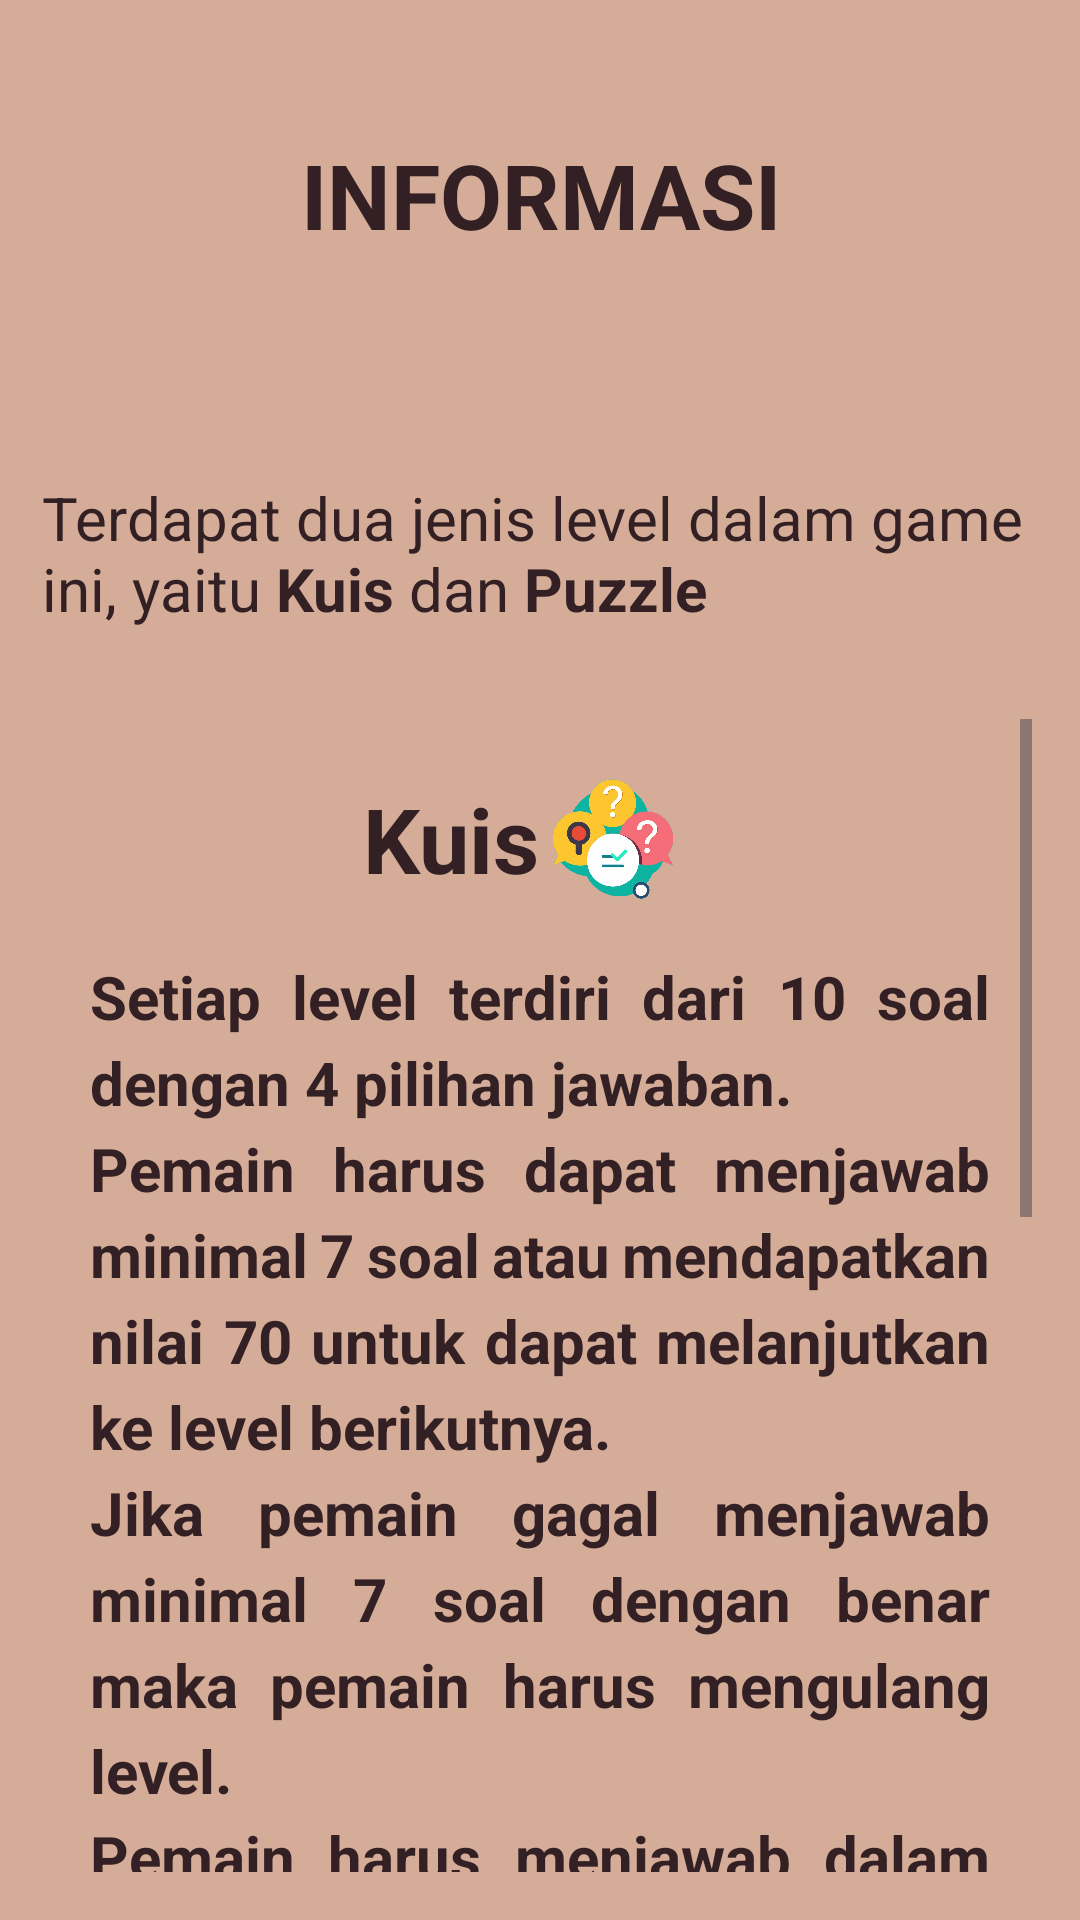

Icon bounding boxes for this 1080*1920 phone screenshot, format [left=x1, top=y1, right=x2, bottom=y2]:
category quiz: [left=553, top=779, right=673, bottom=899]
